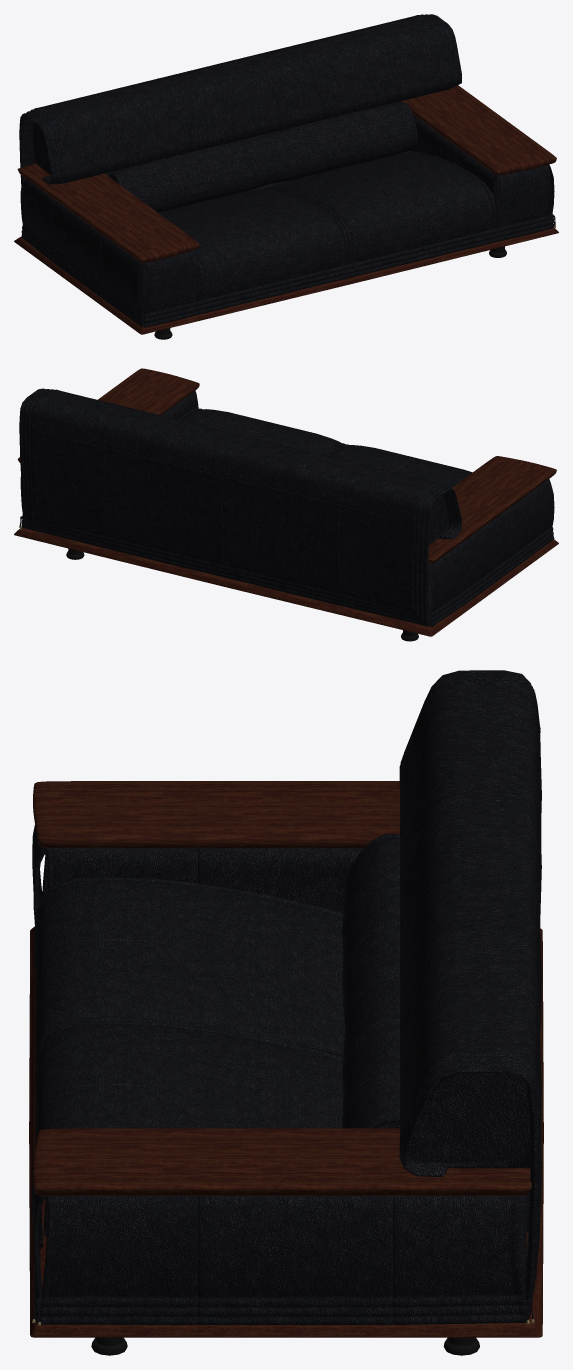
File: Sofa_Straight_1.glb
3 renders of one model, top to bottom at view 1: azimuth 30°, elevation 25°; view 2: azimuth 150°, elevation 25°; view 3: azimuth 270°, elevation 25°, orthographic. The views are drawn at different scales.
Visible parts, largest first — view 1: Back_low, Seat_low, Arm.Wood, Leg, Base.sp; view 2: Back_low, Seat_low, Arm.Wood, Leg; view 3: Seat_low, Back_low, Arm.Wood, Leg, Leg.001.
Part boxes in pixels (x1,y1,x2,y2): Back_low: [19, 14, 461, 212]; Seat_low: [20, 114, 554, 327]; Arm.Wood: [17, 85, 556, 262]; Leg: [14, 228, 558, 334]; Base.sp: [139, 177, 500, 322]; Back_low: [19, 388, 461, 626]; Seat_low: [20, 390, 554, 627]; Arm.Wood: [17, 368, 556, 563]; Leg: [14, 527, 558, 636]; Seat_low: [32, 825, 529, 1324]; Back_low: [342, 670, 541, 1318]; Arm.Wood: [33, 781, 531, 1195]; Leg: [29, 926, 543, 1337]; Leg.001: [91, 1337, 479, 1355].
Size of the model in its own units: 1.69 by 0.615 by 0.9.
Materials: 6 (6 with a texture image).
